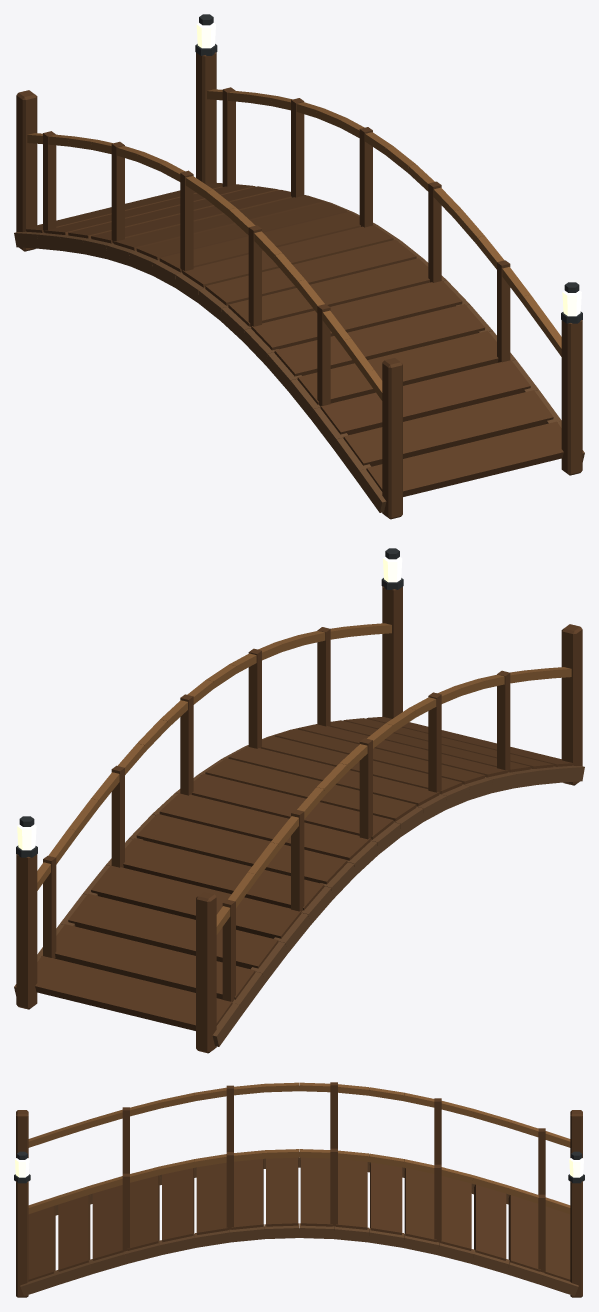
The model's file is for_bridge_wood_v01.glb.
3 views of the same model, one above another, from view 1: azimuth 30°, elevation 25°; view 2: azimuth 150°, elevation 25°; view 3: azimuth 270°, elevation 25° (orthographic). The views are drawn at different scales.
Parts seen in each view (by area): view 1: bridge_wood; view 2: bridge_wood; view 3: bridge_wood.
Boxes of the visible parts, x1,y1,x2,y2 form: bridge_wood: (14,14,584,519); bridge_wood: (14,548,584,1053); bridge_wood: (14,1082,584,1297).
Size of the model in its own units: 1.92 by 1.74 by 6.18.
